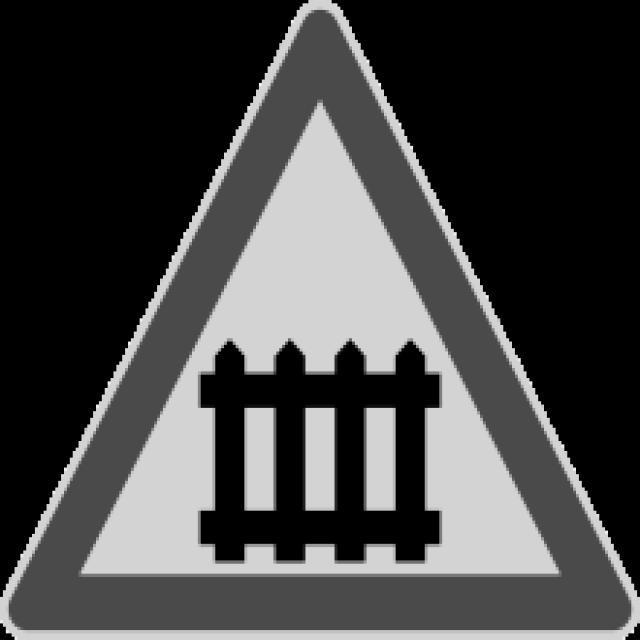guarded level crossing: (28, 13, 610, 623)
